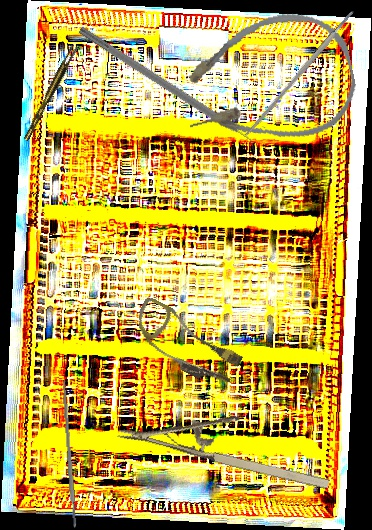Cannula: (170, 2, 365, 160), (124, 295, 249, 393)
Chopper: (71, 25, 265, 161)
Needle Holder: (117, 385, 340, 497)
Scalpel Handle: (243, 9, 357, 138), (60, 379, 78, 529)
Tissue Forceps: (19, 44, 81, 142)
